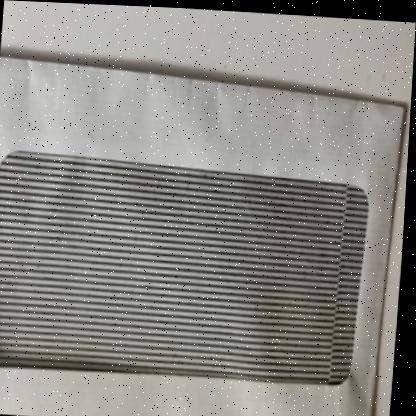Paper: (0, 51, 408, 416)
